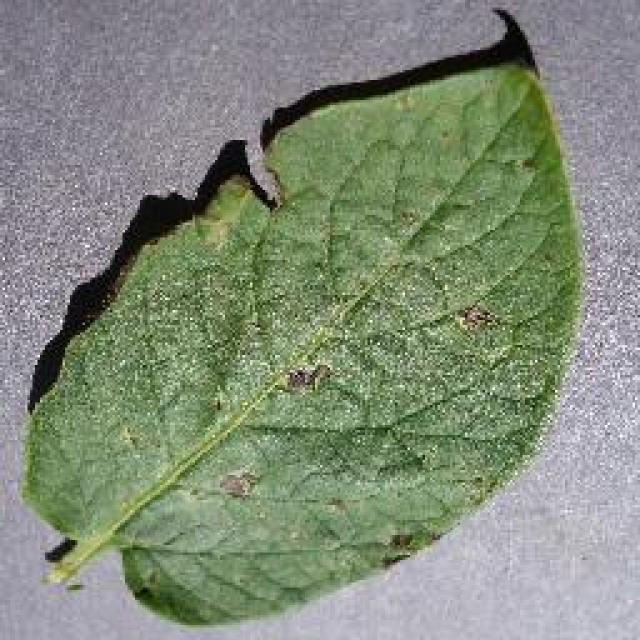Potato: (18, 5, 588, 630)
